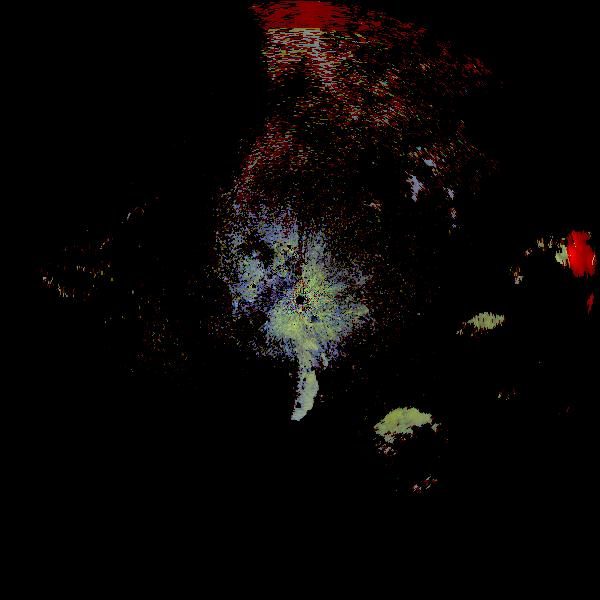roost: (345, 375, 504, 534)
